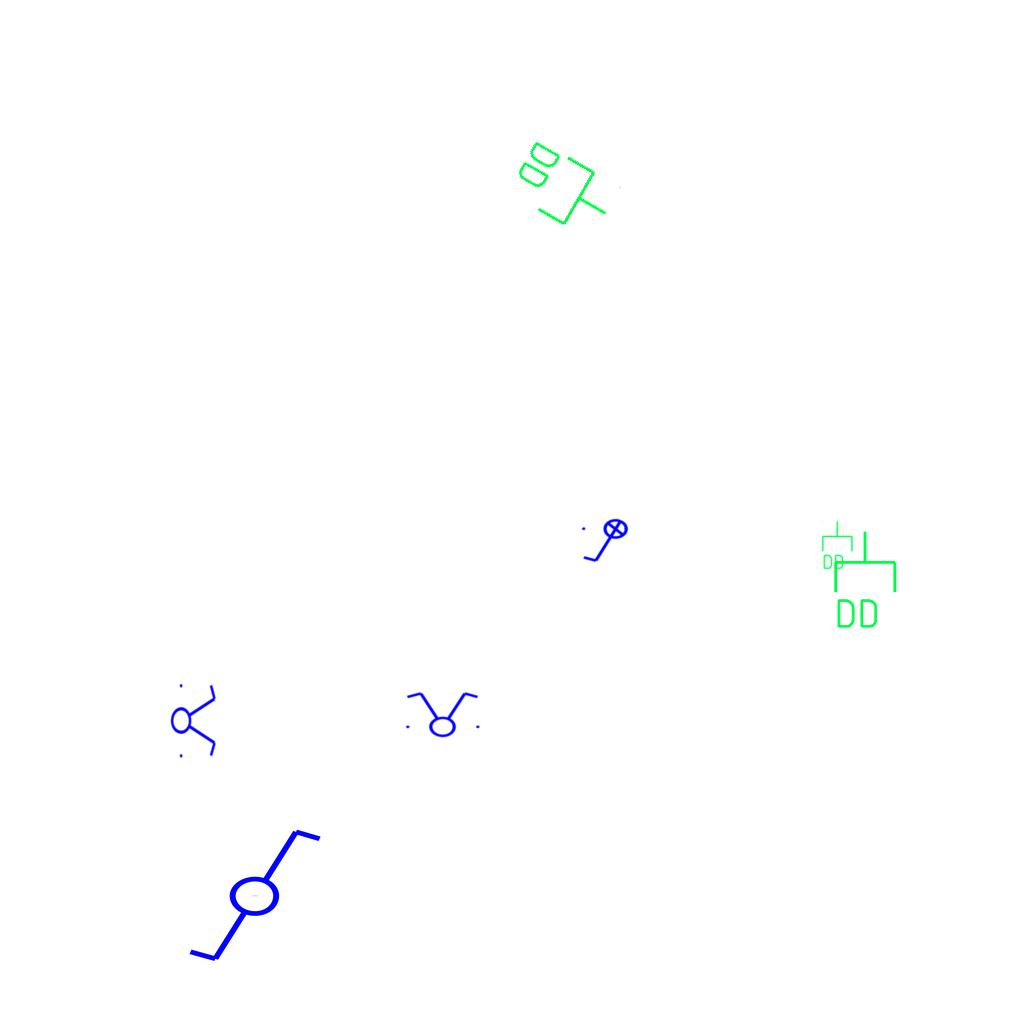Ausschalter_beleuchtet: (579, 518, 635, 566)
Datenanschluss_zweifach: (501, 132, 626, 245), (830, 529, 899, 632), (820, 520, 854, 571)
Serienschalter: (400, 690, 484, 738), (170, 678, 218, 762)
Wechselschalter: (168, 822, 325, 966)
